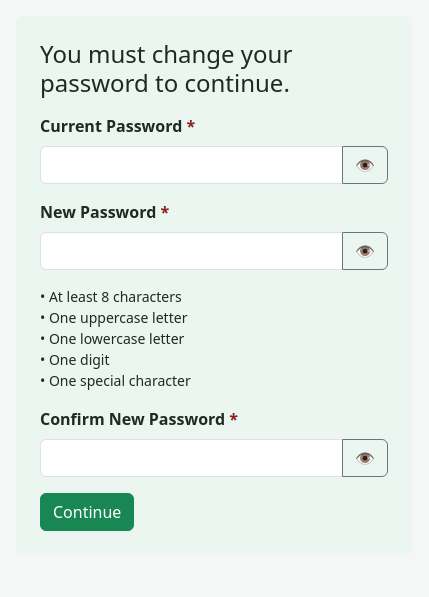
Test case: ChangePassword › UI-06 shows a field error and the unmet rules on a weak new password
Type "ChangeMe123!" into the password field labelled "Current Password *".
click(192, 165); type("ChangeMe123!")  # box [40,146,343,184]
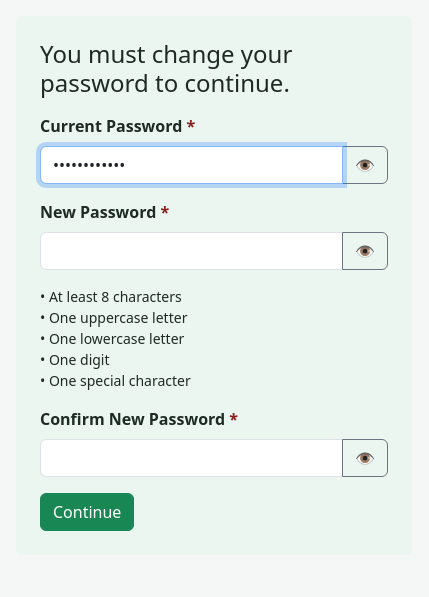
Type "weak" into the password field labelled "New Password *".
click(192, 251); type("weak")  # box [40,232,343,270]
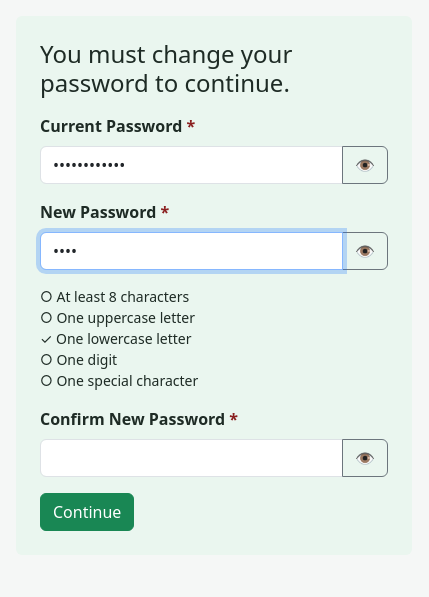
Type "weak" into the password field labelled "Confirm New Password *".
click(192, 458); type("weak")  # box [40,439,343,477]
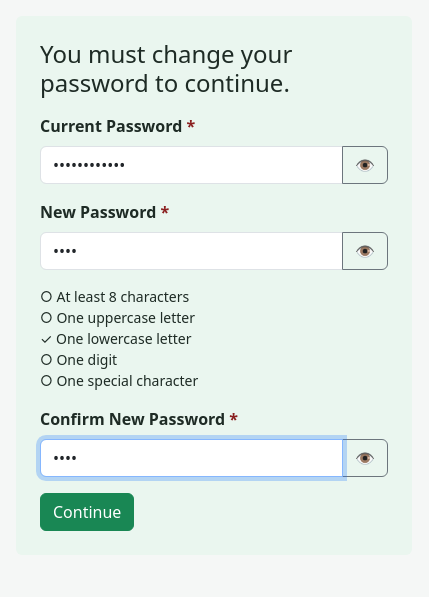
Click the button "Continue".
click(87, 512)  # box [40,493,134,531]
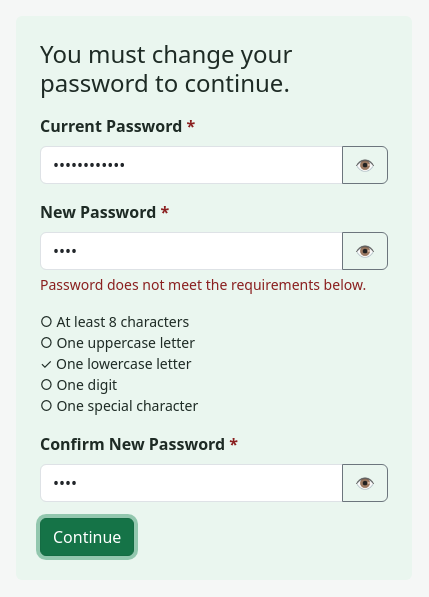
Now the text "Password does not meet the requirements below." is shown, box [40,274,388,295]
